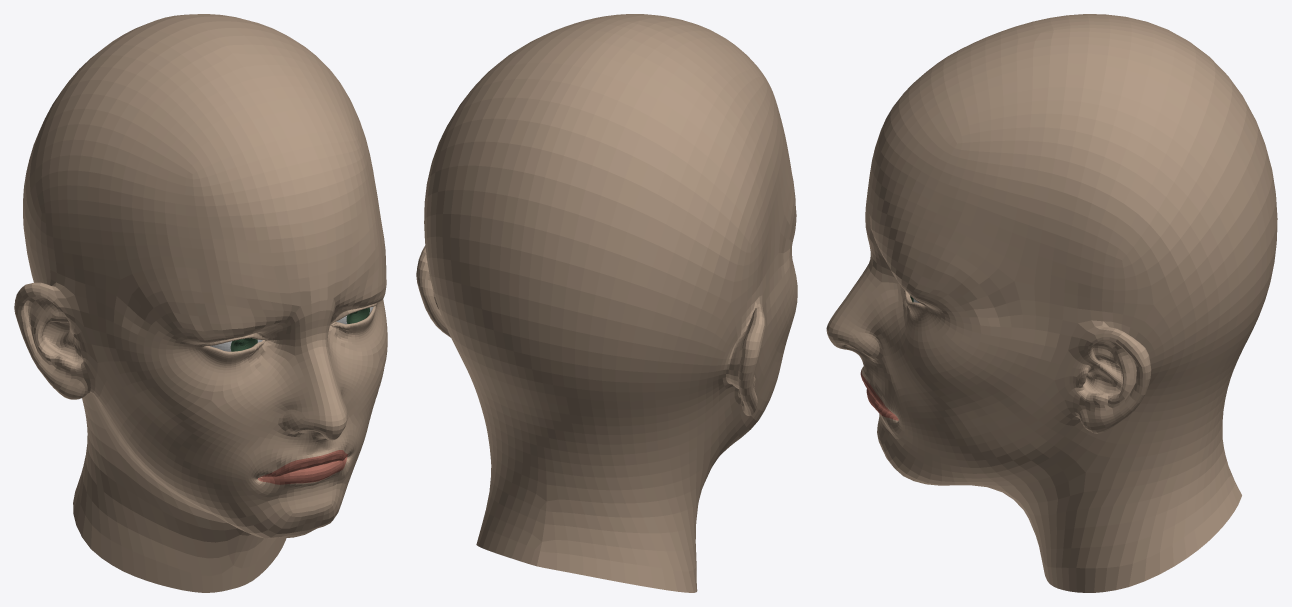
Rendered from demoHead_sad.fbx.
3 renders of one model, left to right at view 1: azimuth 30°, elevation 25°; view 2: azimuth 150°, elevation 25°; view 3: azimuth 270°, elevation 25°, orthographic. The views are drawn at different scales.
Visible parts, largest first — view 1: head_sad; view 2: head_sad; view 3: head_sad.
Part boxes in pixels (x1,y1,x2,y2): head_sad: (14,14,387,592); head_sad: (416,14,797,592); head_sad: (826,14,1277,592).
Size of the model in its own units: 1.26 by 1.95 by 1.46.
